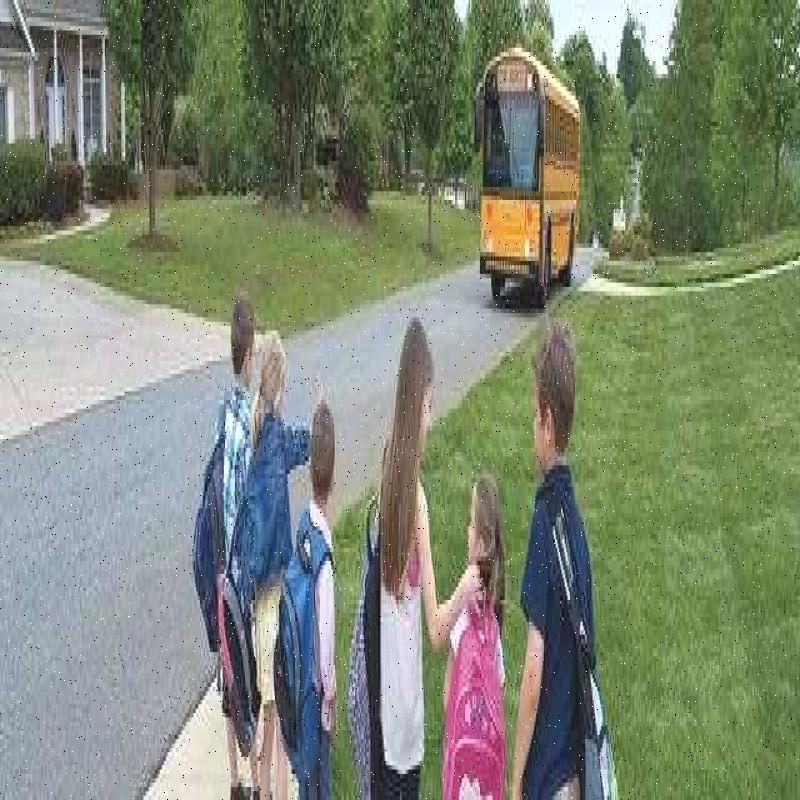bus: (471, 39, 582, 335)
